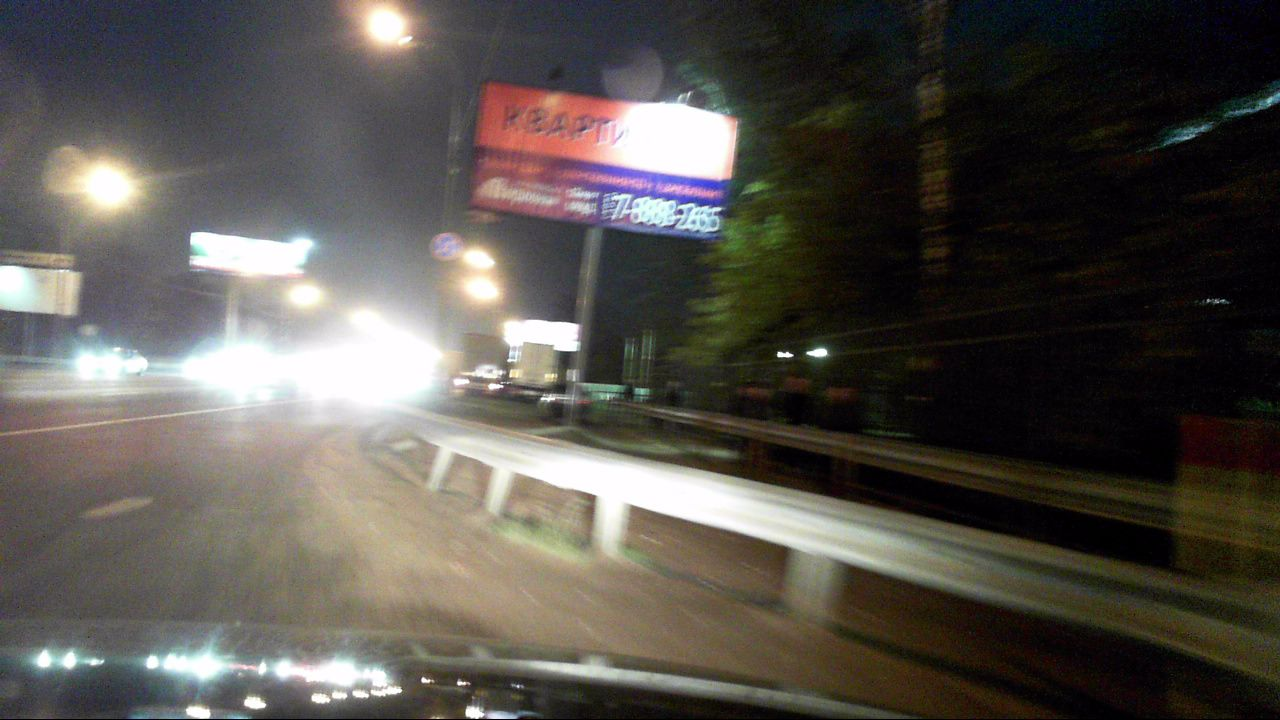No Parking: (429, 232, 459, 263)
